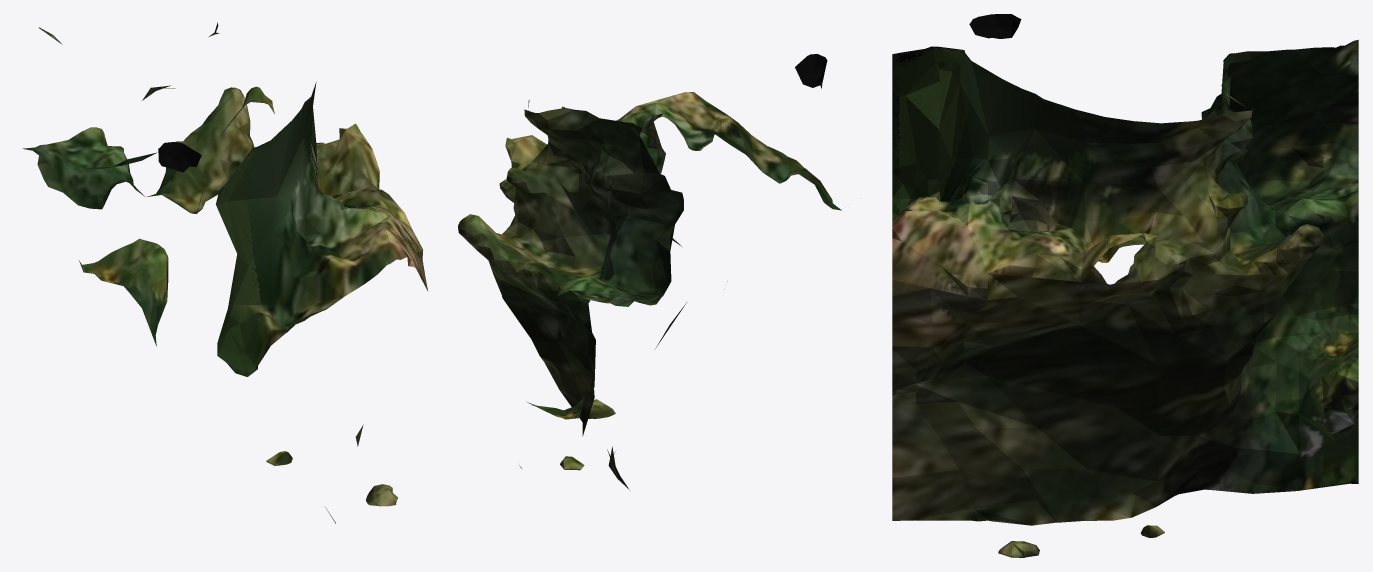
3 views of the same model, side by side, from view 1: azimuth 30°, elevation 25°; view 2: azimuth 150°, elevation 25°; view 3: azimuth 270°, elevation 25° (orthographic). The views are drawn at different scales.
Bounding box in the file's own units: 1.12 × 1.67 × 1.67.
4 materials, 4 textured.
